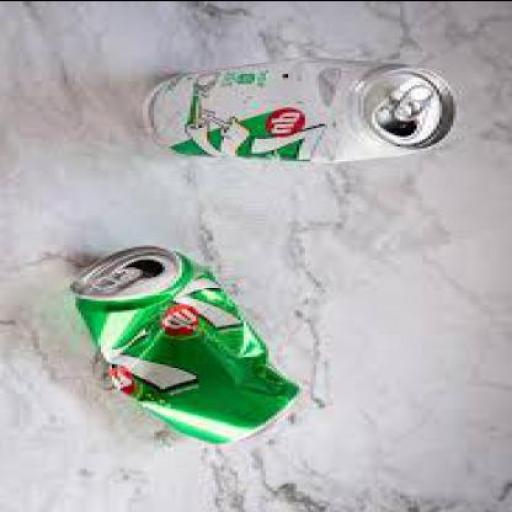metal: (70, 245, 308, 445), (140, 62, 458, 166)
